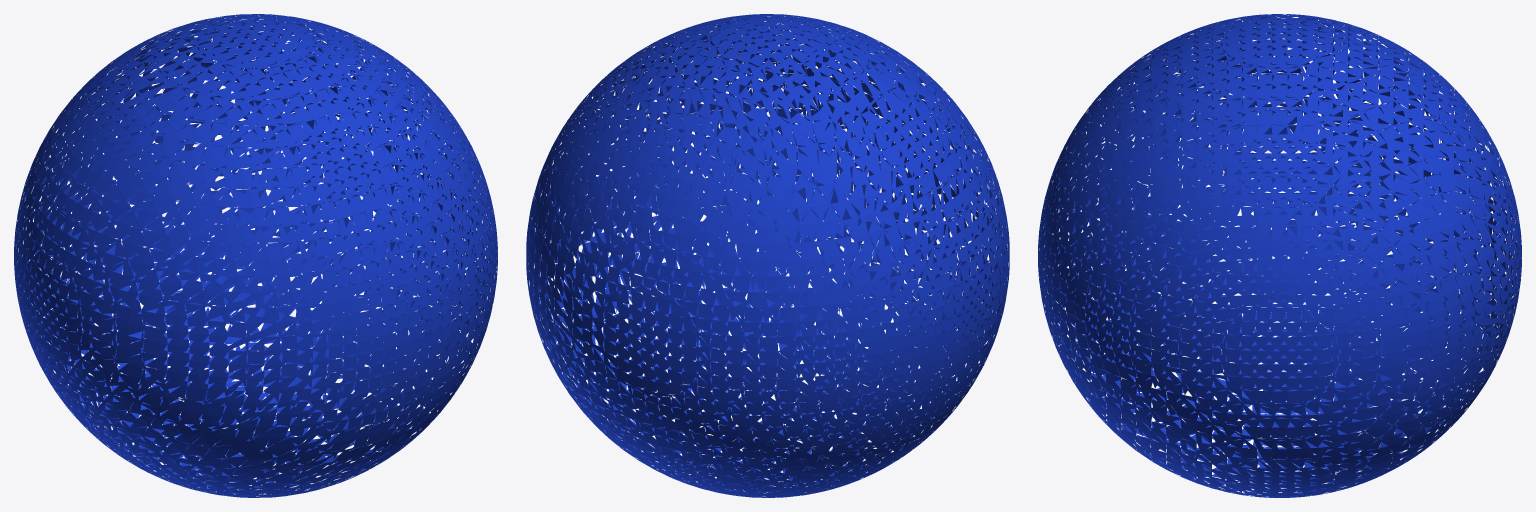
File: testFromBlend.obj
3 views of the same model, side by side, from view 1: azimuth 30°, elevation 25°; view 2: azimuth 150°, elevation 25°; view 3: azimuth 270°, elevation 25° (orthographic).
Parts seen in each view (by area): view 1: test; view 2: test; view 3: test.
Part boxes in pixels (<box>): test: <box>14,14,497,497</box>; test: <box>526,14,1009,497</box>; test: <box>1038,14,1521,497</box>.
Bounding box in the file's own units: 0.999 × 0.999 × 0.999.
